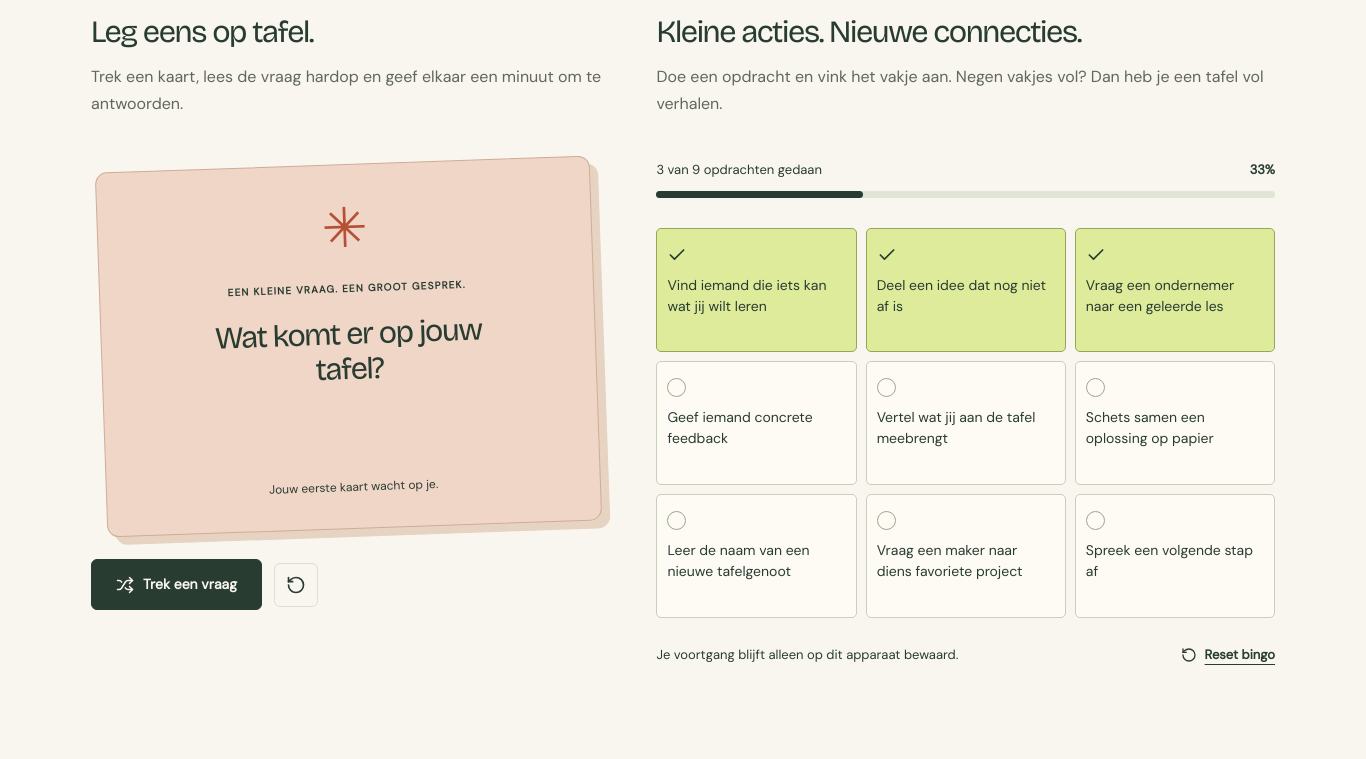
Test case: question cards advance and restart; bingo toggles, persists and resets
Earlier steps of the test are not shown.
(page scrolled)
Click the button "Geef iemand concrete feedback".
click(757, 423)  # box top-left (656, 361), bottom-right (857, 485)
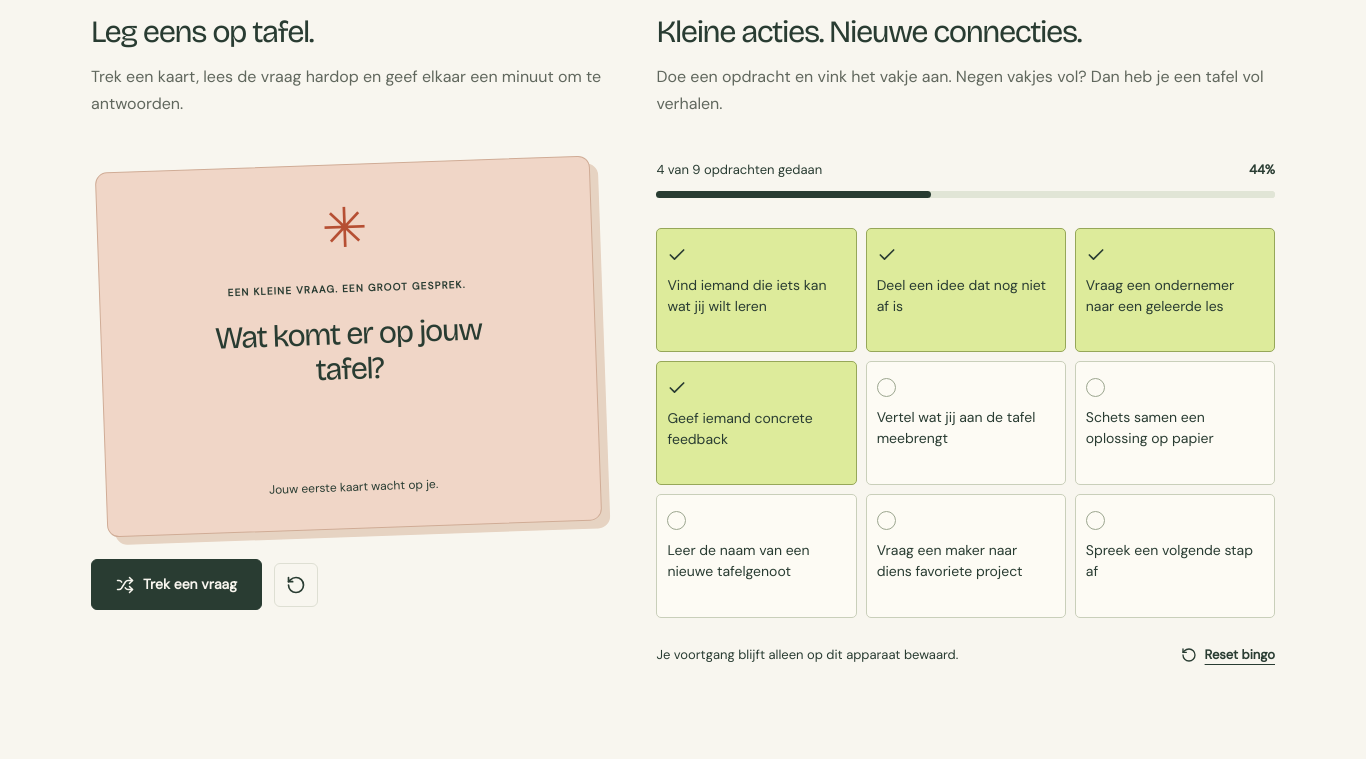
Click the button "Vertel wat jij aan de tafel meebrengt".
click(966, 423)  # box top-left (866, 361), bottom-right (1066, 485)
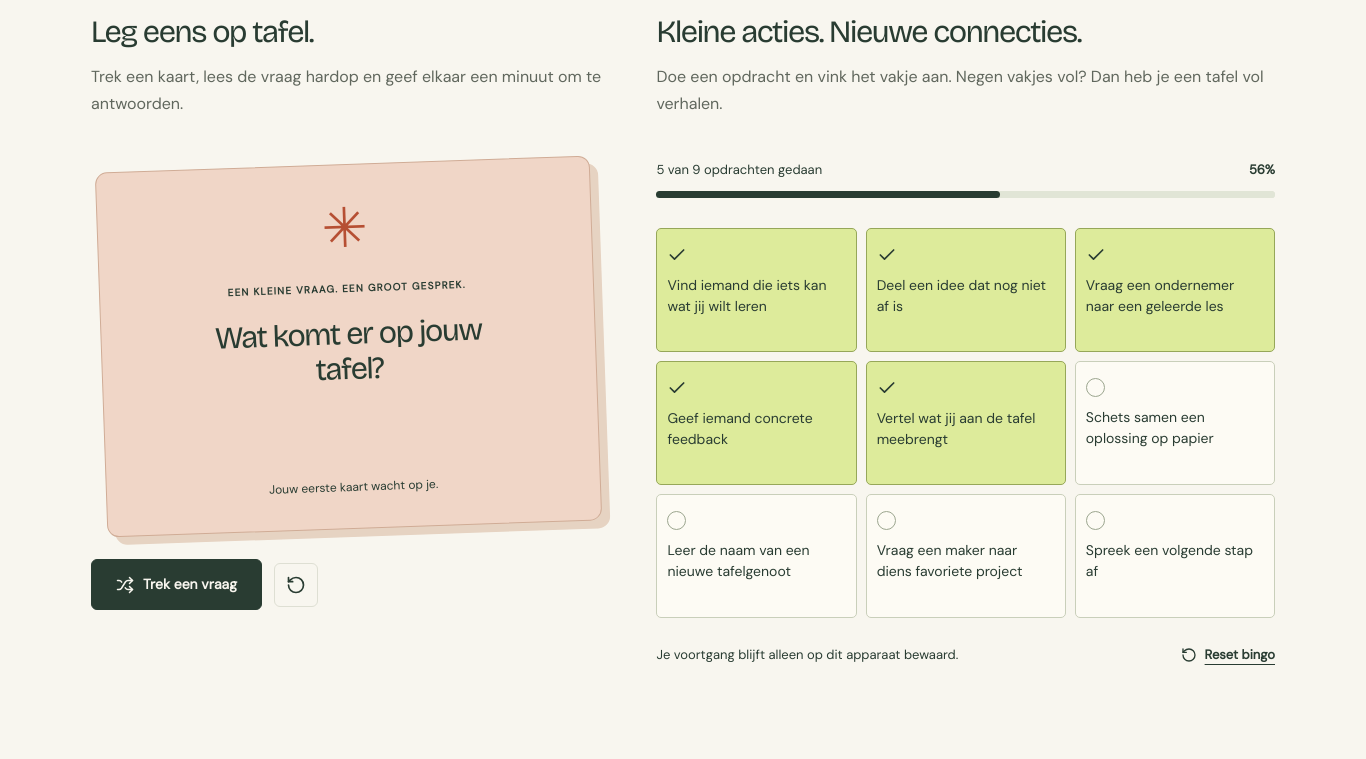
Click the button "Schets samen een oplossing op papier".
click(1175, 423)  # box top-left (1075, 361), bottom-right (1275, 485)
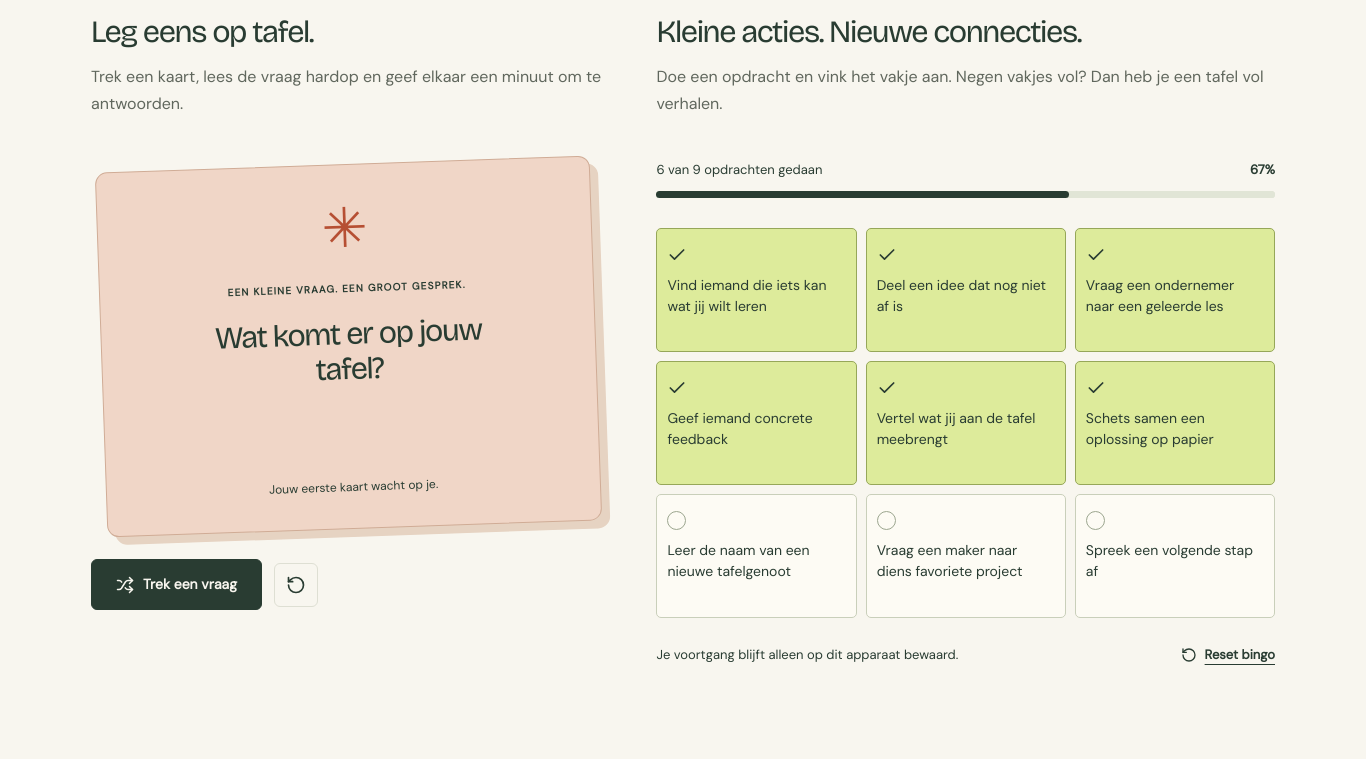
Click the button "Leer de naam van een nieuwe tafelgenoot".
click(757, 556)  # box top-left (656, 494), bottom-right (857, 618)
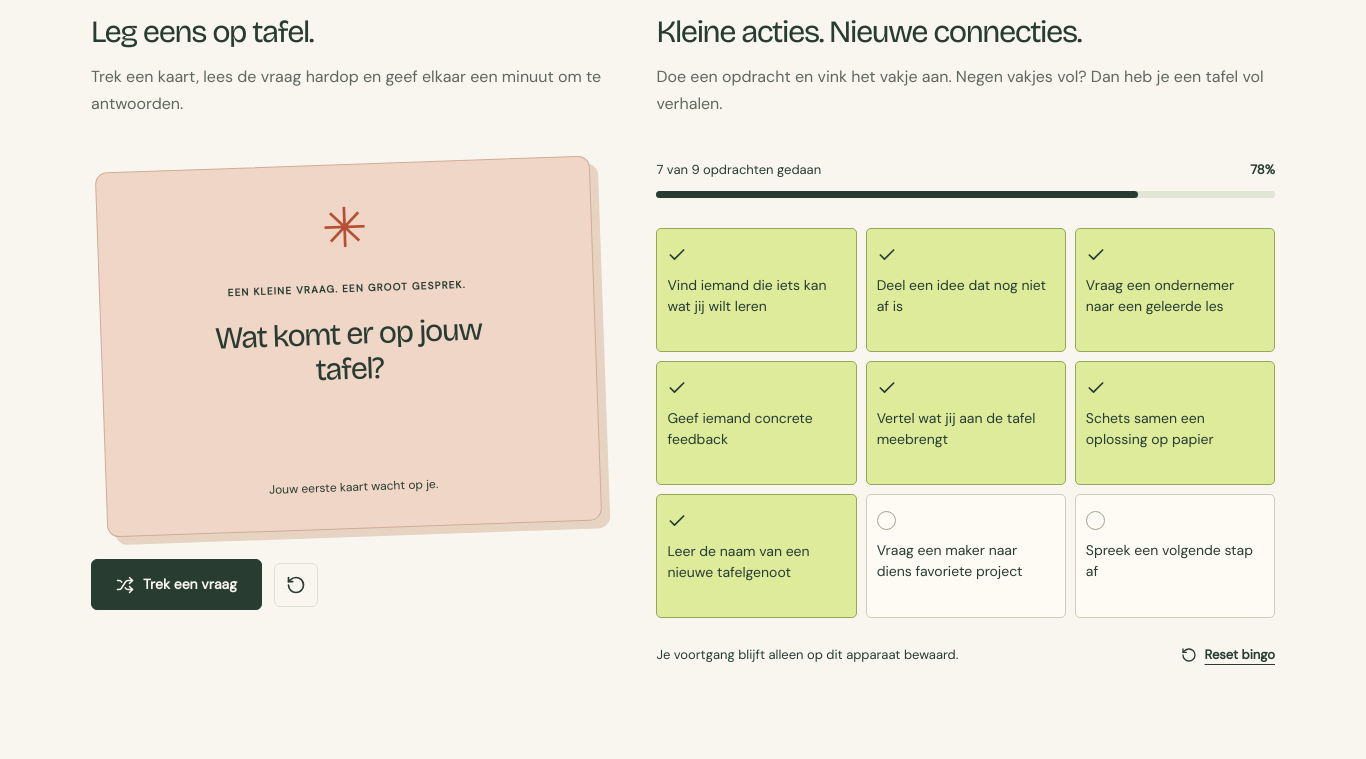
Click the button "Vraag een maker naar diens favoriete project".
click(966, 556)  # box top-left (866, 494), bottom-right (1066, 618)
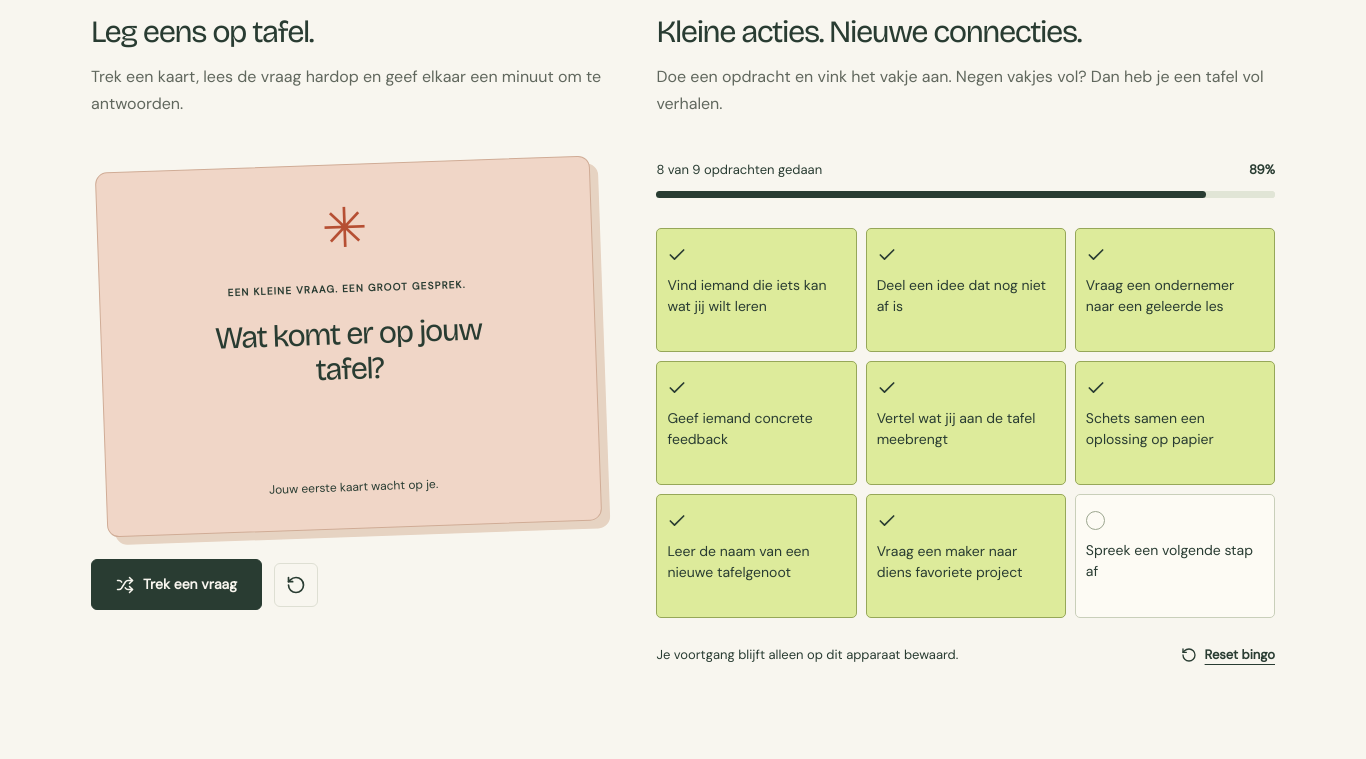
Click the button "Spreek een volgende stap af".
click(1175, 556)  # box top-left (1075, 494), bottom-right (1275, 618)
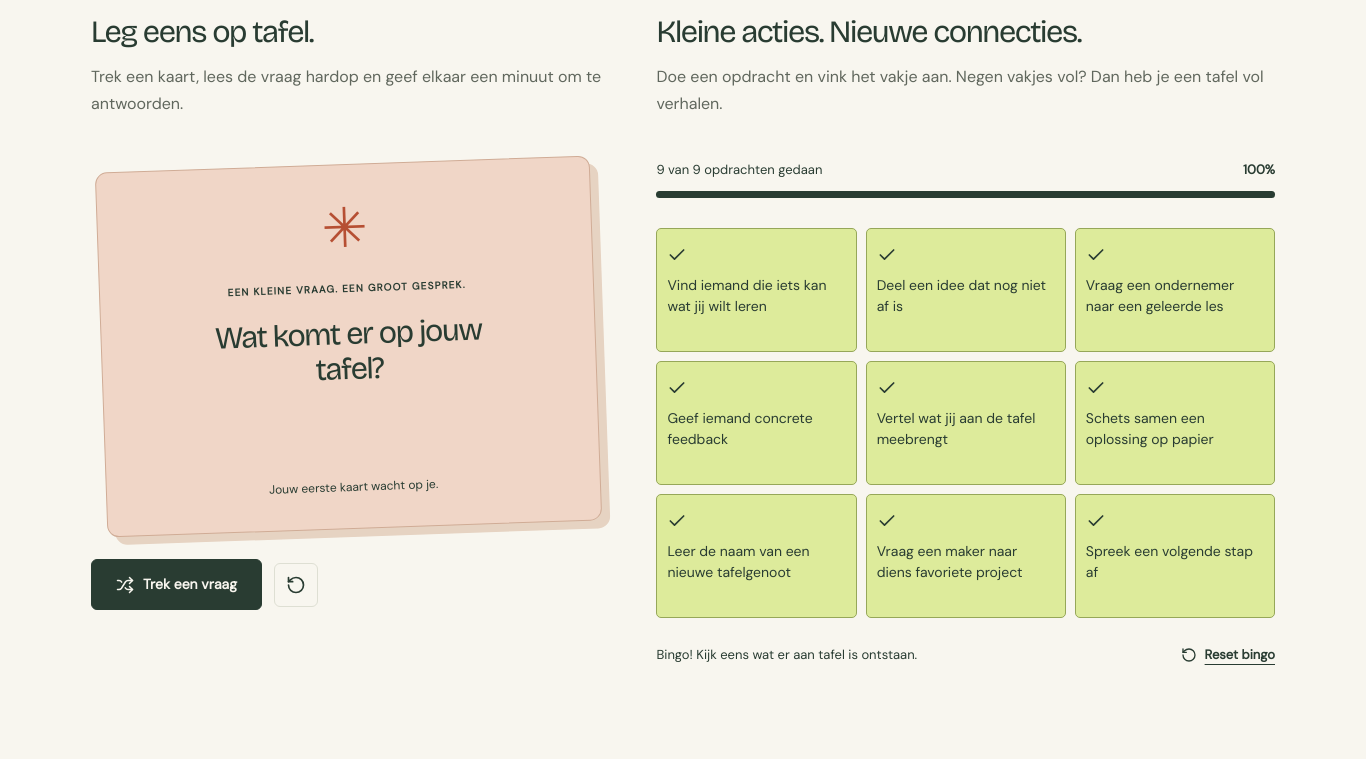
Expected: the element with class "bingo-footer" shows "Bingo!", top-left (656, 646), bottom-right (917, 663)
